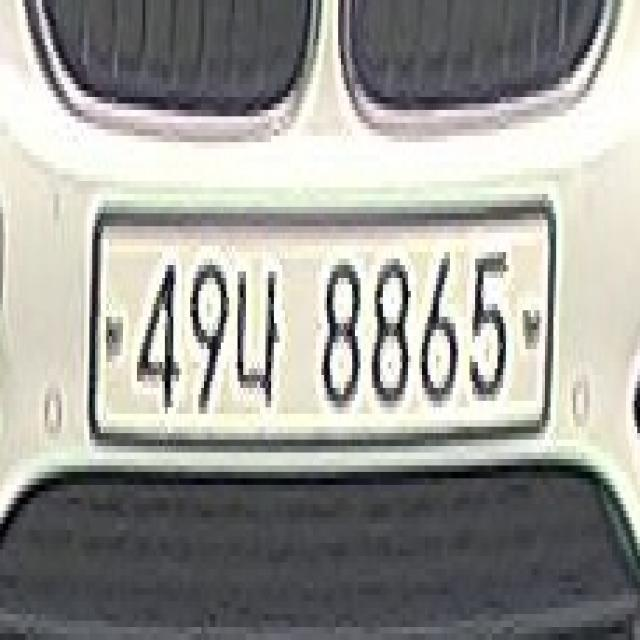4: (136, 256, 183, 428)
5: (467, 240, 515, 410)
6: (416, 244, 462, 426)
8: (317, 246, 365, 418), (371, 248, 413, 428)
9: (188, 247, 231, 430)
license_plate: (85, 174, 563, 460)
na: (236, 252, 285, 428)
